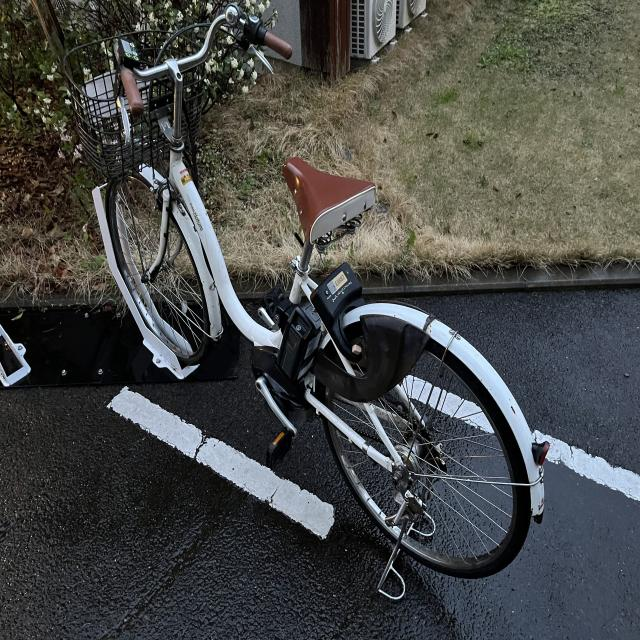basket: (60, 28, 207, 179)
battery: (273, 297, 323, 386)
